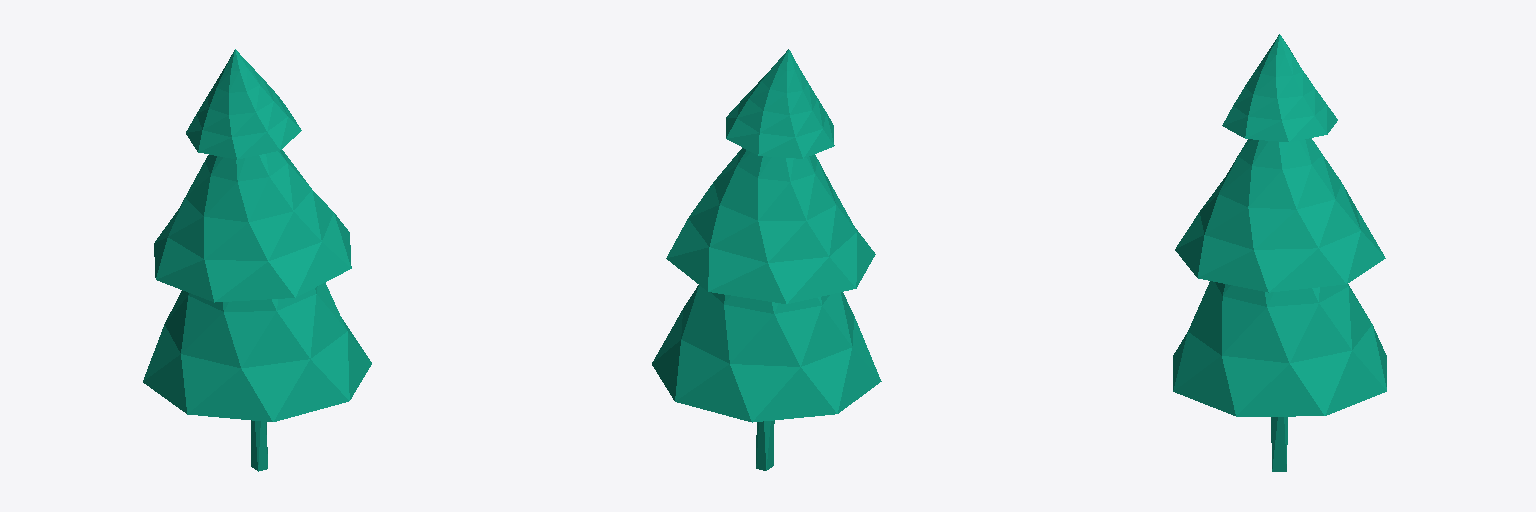
The model's file is arvoros.obj.
3 views of the same model, side by side, from view 1: azimuth 30°, elevation 25°; view 2: azimuth 150°, elevation 25°; view 3: azimuth 270°, elevation 25° (orthographic).
Visible parts, largest first — view 1: Box001; view 2: Box001; view 3: Box001.
Boxes of the visible parts, <box> form: Box001: <box>143,49,371,471</box>; Box001: <box>652,49,881,470</box>; Box001: <box>1173,34,1386,471</box>.
Size of the model in its own units: 99.04 by 213 by 97.57.